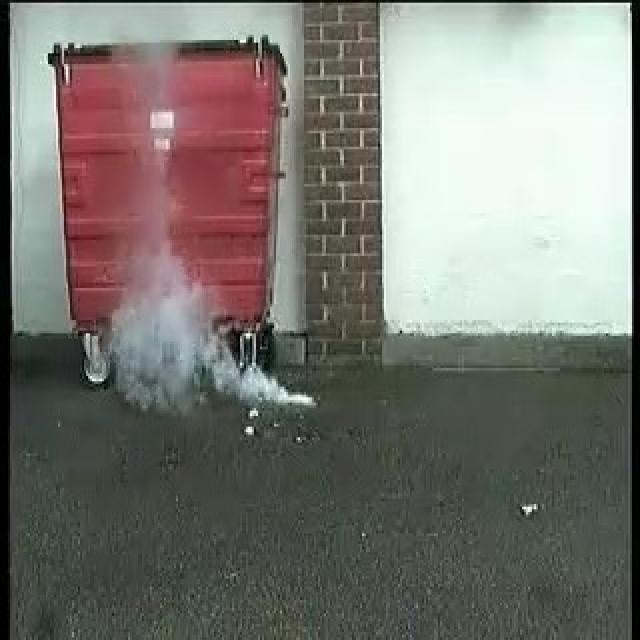smoke: (114, 273, 318, 417)
